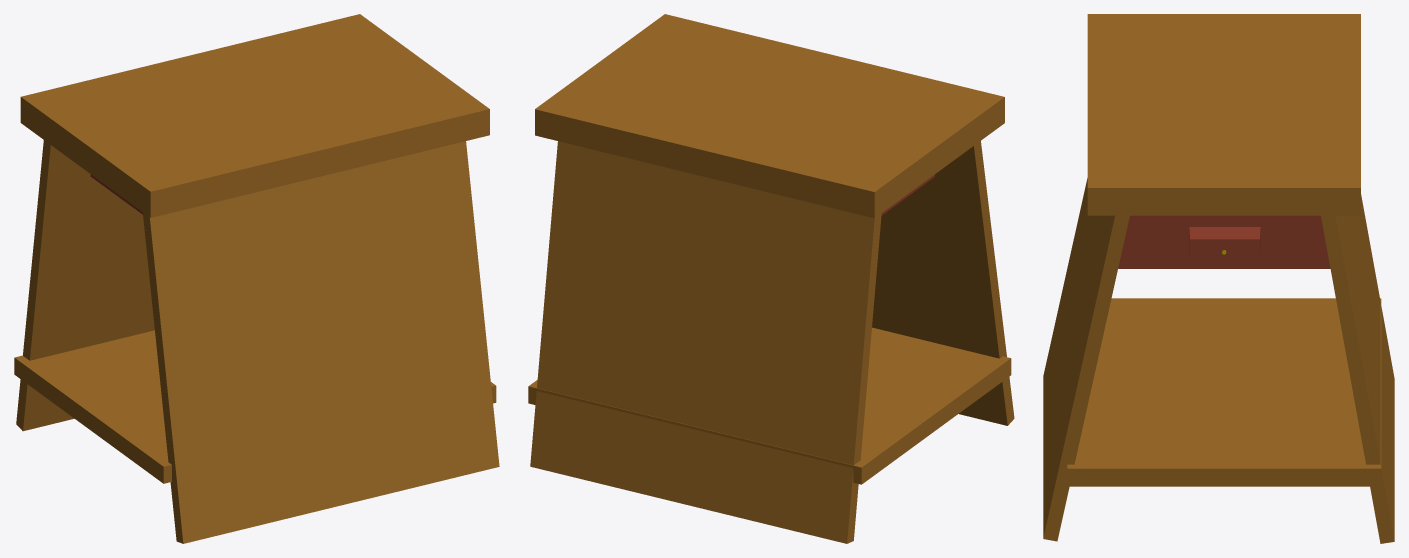
The model's file is new_night_table.fbx.
The picture shows the model from 3 angles, left to right: view 1: azimuth 30°, elevation 25°; view 2: azimuth 150°, elevation 25°; view 3: azimuth 270°, elevation 25°; orthographic projection. The views are drawn at different scales.
Visible parts, largest first — view 1: Cube.003, Cube.005, Cube.002, Cube.001; view 2: Cube.002, Cube.005, Cube.003, Cube.001; view 3: Cube.005, Cube.001, Cube.003, Cube.002, Cube.004.
Boxes of the visible parts, box(x1,y1,x2,y2) form: Cube.003: box(142, 141, 499, 543); Cube.005: box(20, 14, 489, 217); Cube.002: box(16, 140, 154, 431); Cube.001: box(14, 330, 496, 483); Cube.002: box(530, 141, 881, 543); Cube.005: box(535, 14, 1004, 218); Cube.003: box(872, 141, 1014, 425); Cube.001: box(528, 327, 1011, 484); Cube.005: box(1087, 14, 1360, 215); Cube.001: box(1067, 298, 1381, 486); Cube.003: box(1043, 178, 1129, 541); Cube.002: box(1321, 194, 1394, 543); Cube.004: box(1118, 215, 1330, 268).
Bounding box in the file's own units: 186 × 174 × 153.
